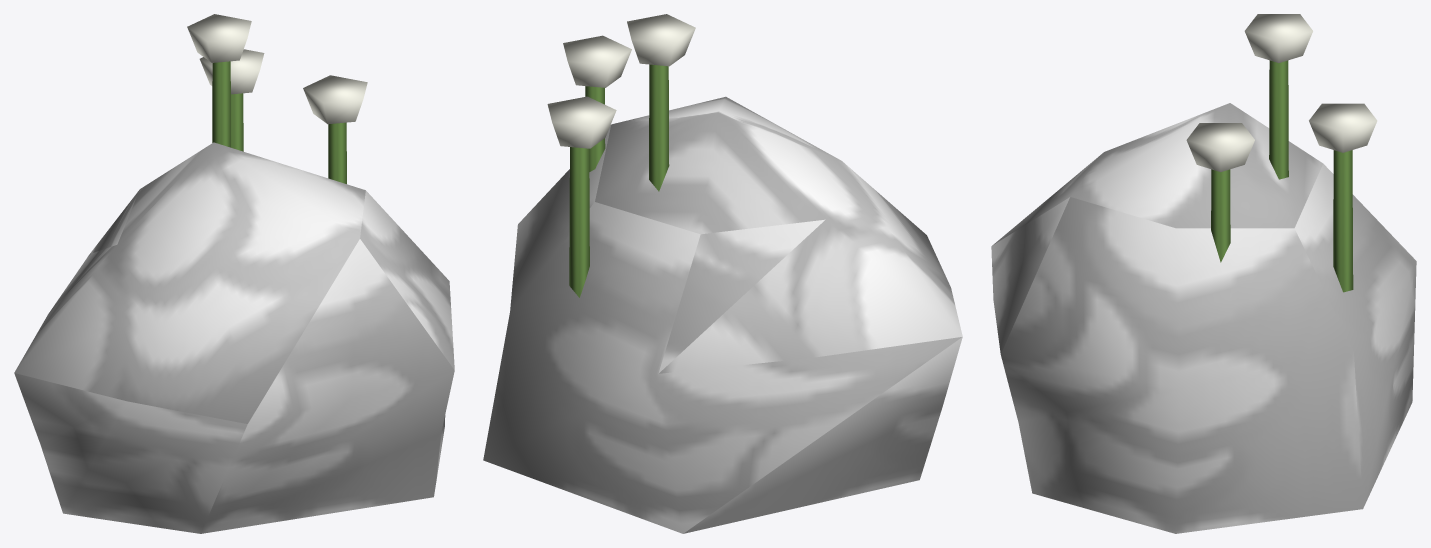
Rendered from psychoid.obj.
3 views of the same model, side by side, from view 1: azimuth 30°, elevation 25°; view 2: azimuth 150°, elevation 25°; view 3: azimuth 270°, elevation 25° (orthographic). The views are drawn at different scales.
Parts seen in each view (by area): view 1: source_component_000, source_component_004, source_component_002, source_component_003, source_component_006, source_component_001, source_component_005; view 2: source_component_000, source_component_005, source_component_002, source_component_004, source_component_006, source_component_003, source_component_001; view 3: source_component_000, source_component_005, source_component_006, source_component_002, source_component_004, source_component_003, source_component_001.
Part boxes in pixels (x1,y1,x2,y2): source_component_000: (14, 142, 454, 533); source_component_004: (187, 14, 251, 62); source_component_002: (303, 75, 367, 124); source_component_003: (212, 61, 230, 147); source_component_006: (199, 49, 264, 94); source_component_001: (328, 122, 346, 183); source_component_005: (231, 93, 243, 151); source_component_000: (483, 96, 962, 533); source_component_005: (569, 147, 589, 297); source_component_002: (563, 35, 631, 87); source_component_004: (627, 14, 695, 66); source_component_006: (547, 96, 616, 148); source_component_003: (649, 64, 669, 191); source_component_001: (585, 86, 605, 171); source_component_000: (991, 103, 1416, 533); source_component_005: (1333, 150, 1353, 292); source_component_006: (1309, 103, 1377, 152); source_component_002: (1186, 123, 1254, 171); source_component_004: (1244, 14, 1312, 62); source_component_003: (1269, 60, 1288, 179); source_component_001: (1211, 169, 1230, 262).
Bounding box in the file's own units: 0.5653 × 0.5129 × 0.4708.
